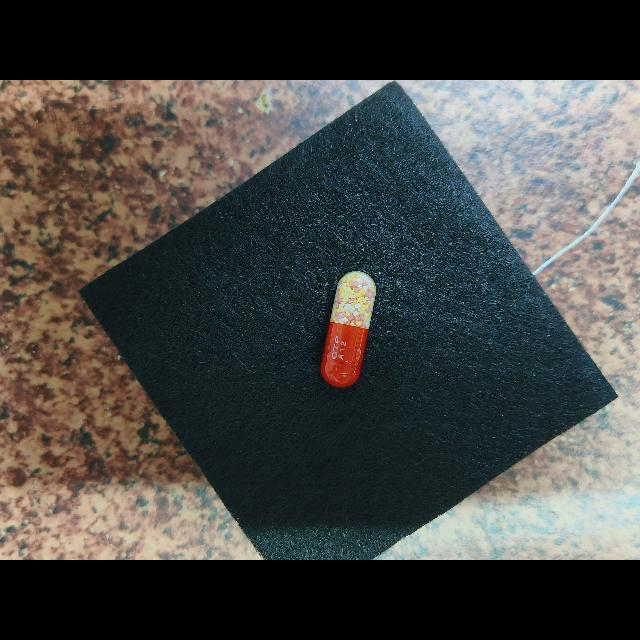Intact Capsule: (320, 271, 376, 388)
